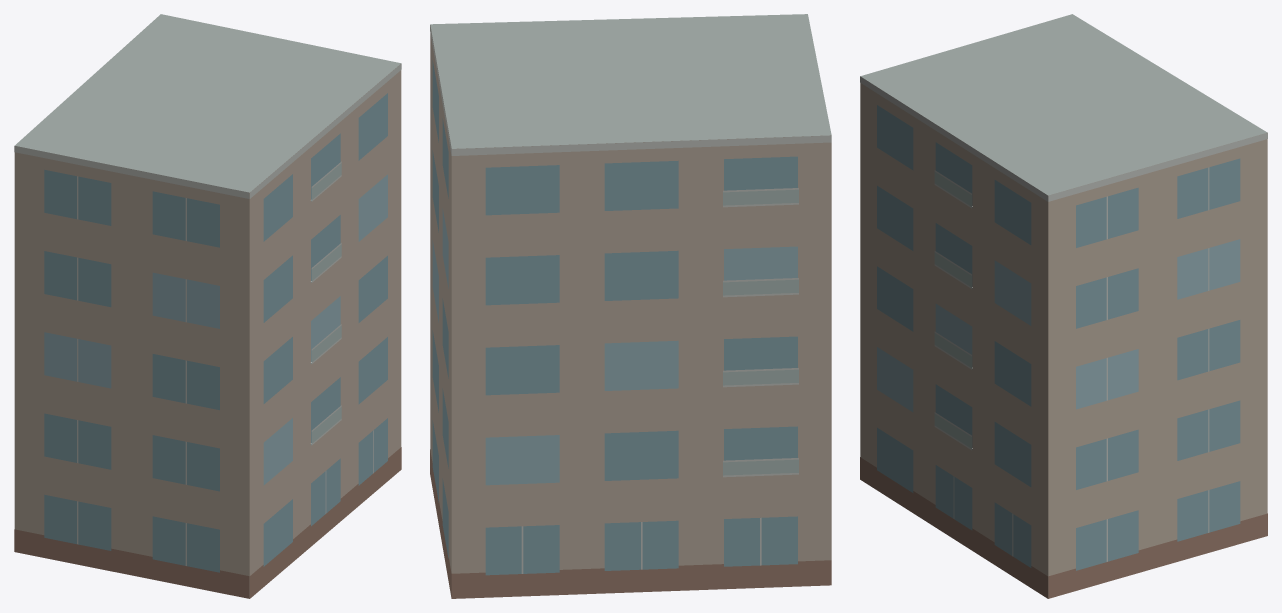
Rendered from survey-upis-32894290.glb.
The picture shows the model from 3 angles, left to right: view 1: azimuth 30°, elevation 25°; view 2: azimuth 150°, elevation 25°; view 3: azimuth 270°, elevation 25°; orthographic projection. The views are drawn at different scales.
Parts seen in each view (by area): view 1: survey-upis-32894290.tmp; view 2: survey-upis-32894290.tmp; view 3: survey-upis-32894290.tmp.
Boxes of the visible parts, left/top/right/bottom form: survey-upis-32894290.tmp: left=14, top=14, right=401, bottom=598; survey-upis-32894290.tmp: left=430, top=14, right=831, bottom=598; survey-upis-32894290.tmp: left=860, top=14, right=1267, bottom=598.
Bounding box in the file's own units: 14.88 × 15.4 × 14.11.
